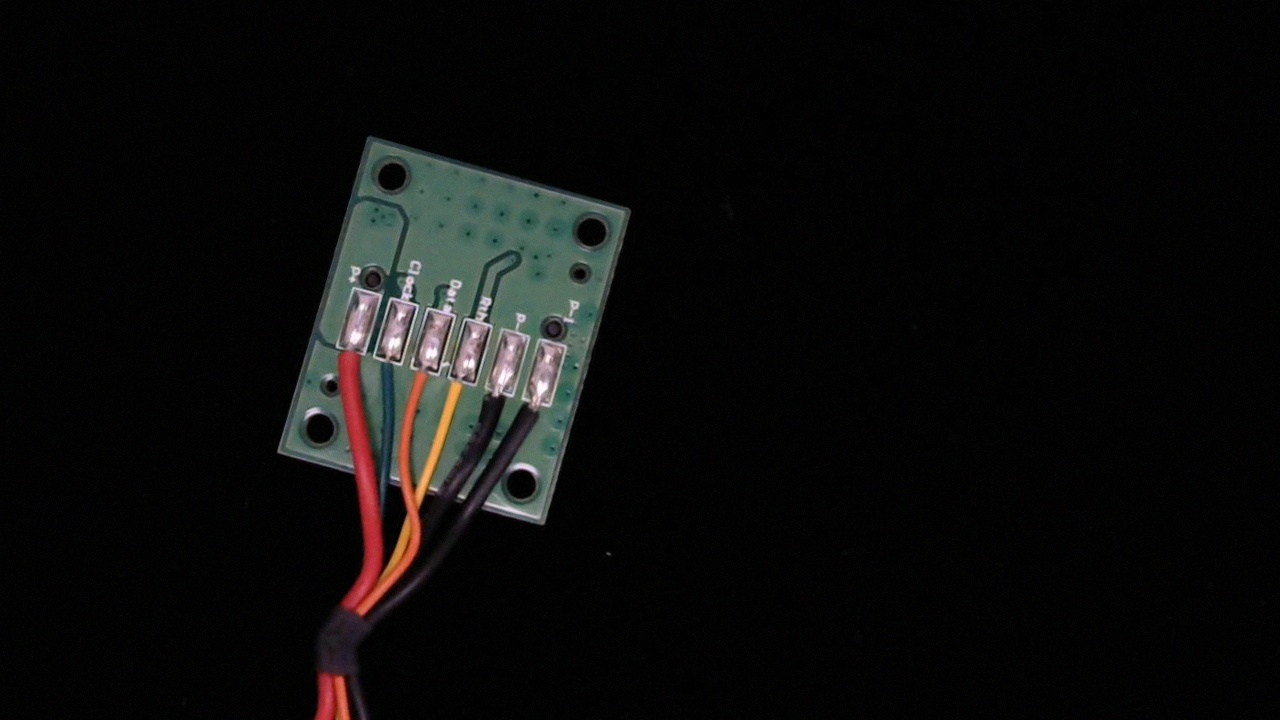Black: (470, 372, 518, 447)
Black1: (509, 385, 553, 449)
Green: (358, 339, 412, 416)
Orange: (395, 349, 447, 428)
Red: (320, 330, 374, 407)
Yellow: (433, 360, 481, 435)
